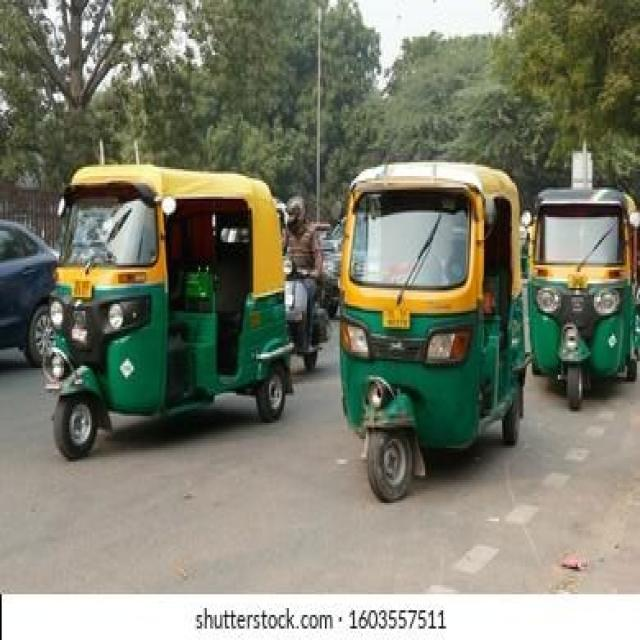Car: (47, 160, 289, 471), (334, 148, 521, 528), (531, 147, 639, 411), (0, 197, 54, 390)
Cycle: (282, 181, 326, 370)
